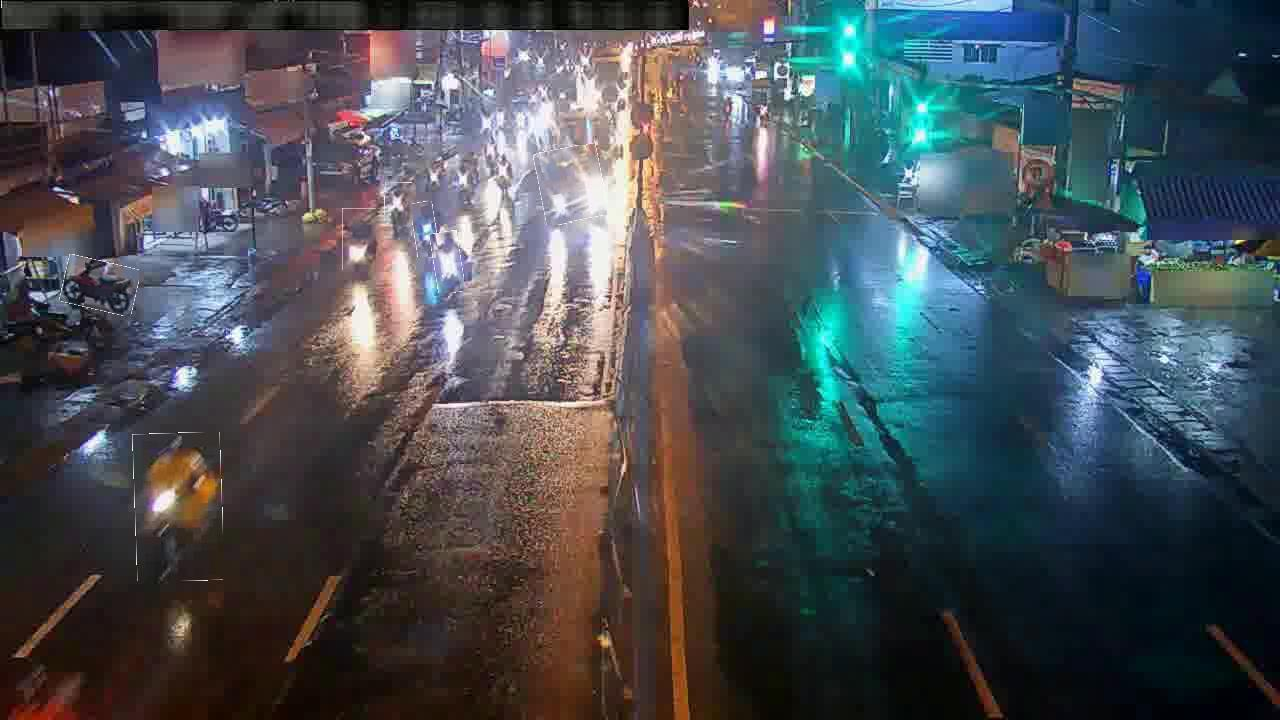8: (536, 146, 605, 224)
motorbike: (134, 432, 223, 582), (61, 258, 138, 314), (342, 208, 377, 271), (432, 231, 463, 294), (385, 182, 413, 237), (412, 202, 438, 259)
